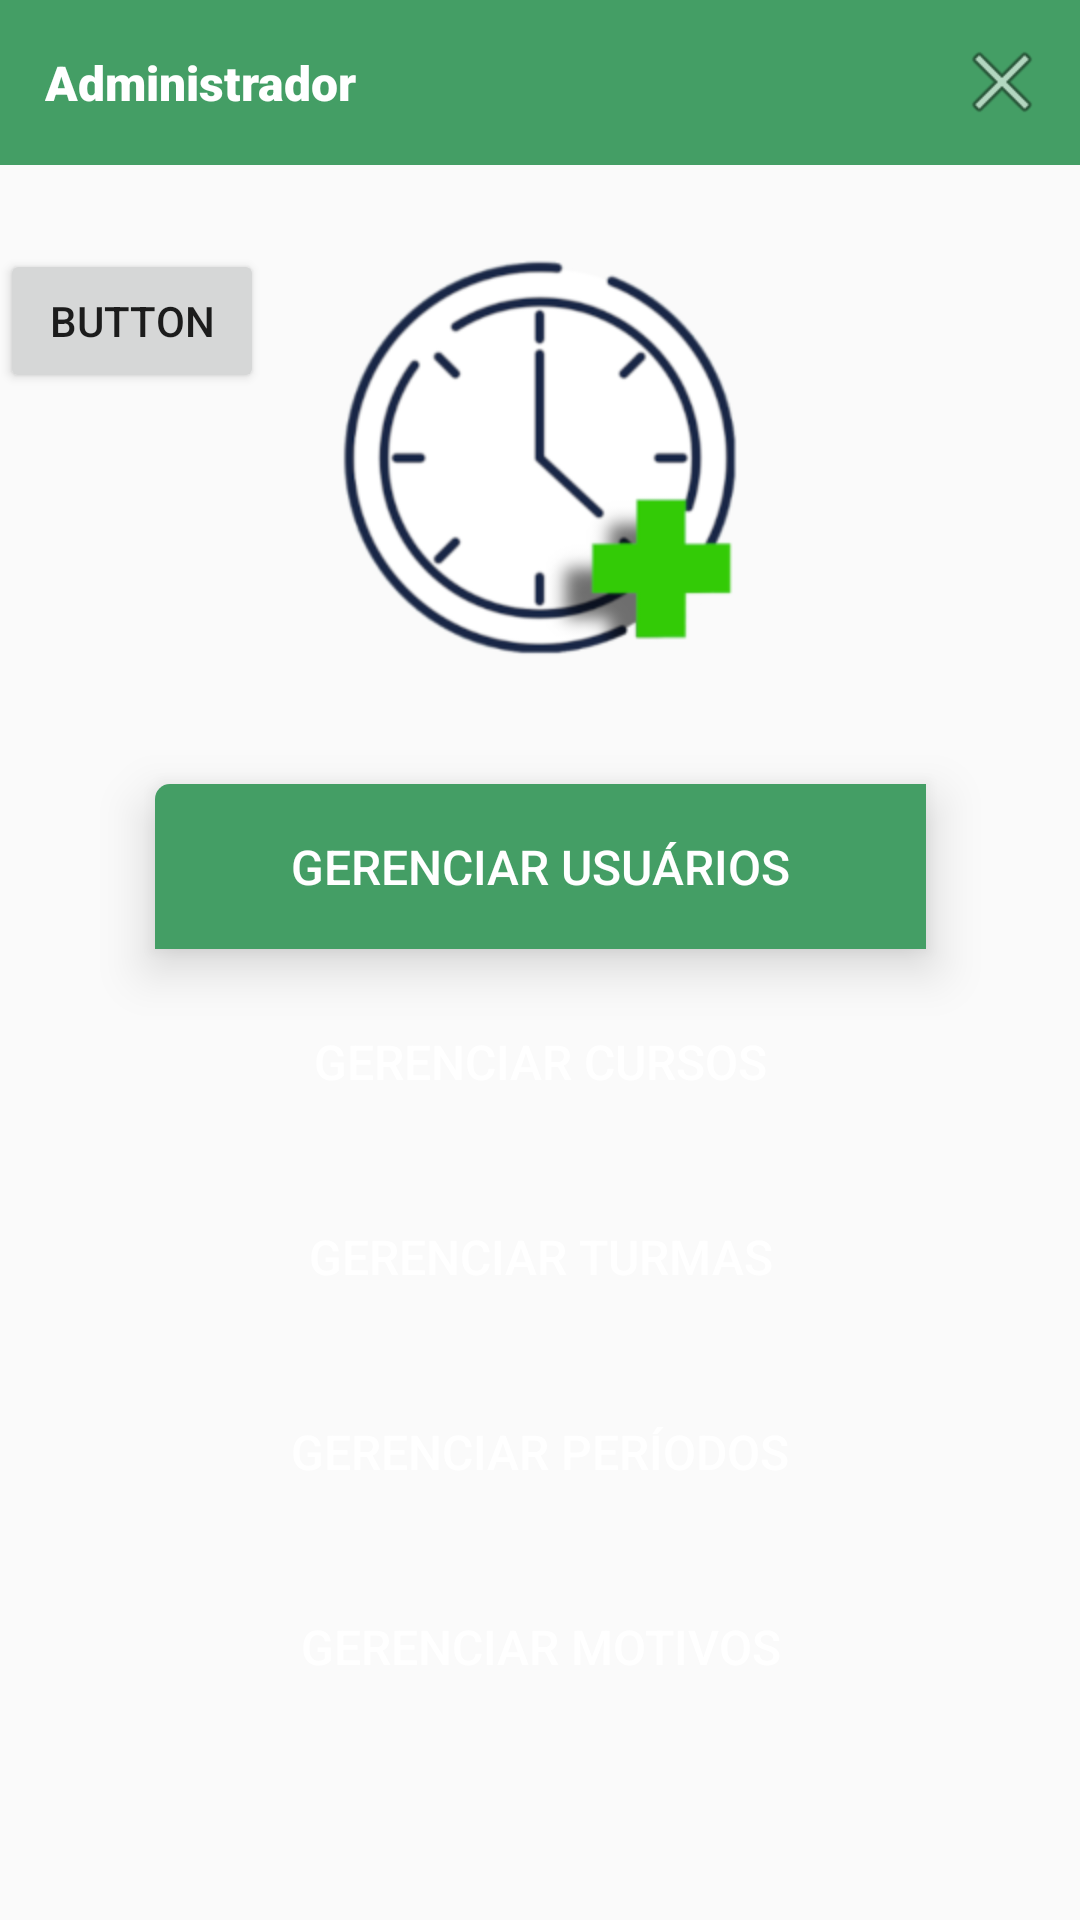

Screen size 1080 × 1920. Icon name, then its center in pixels as (x,y):
close clear cancel: (1002,82)
